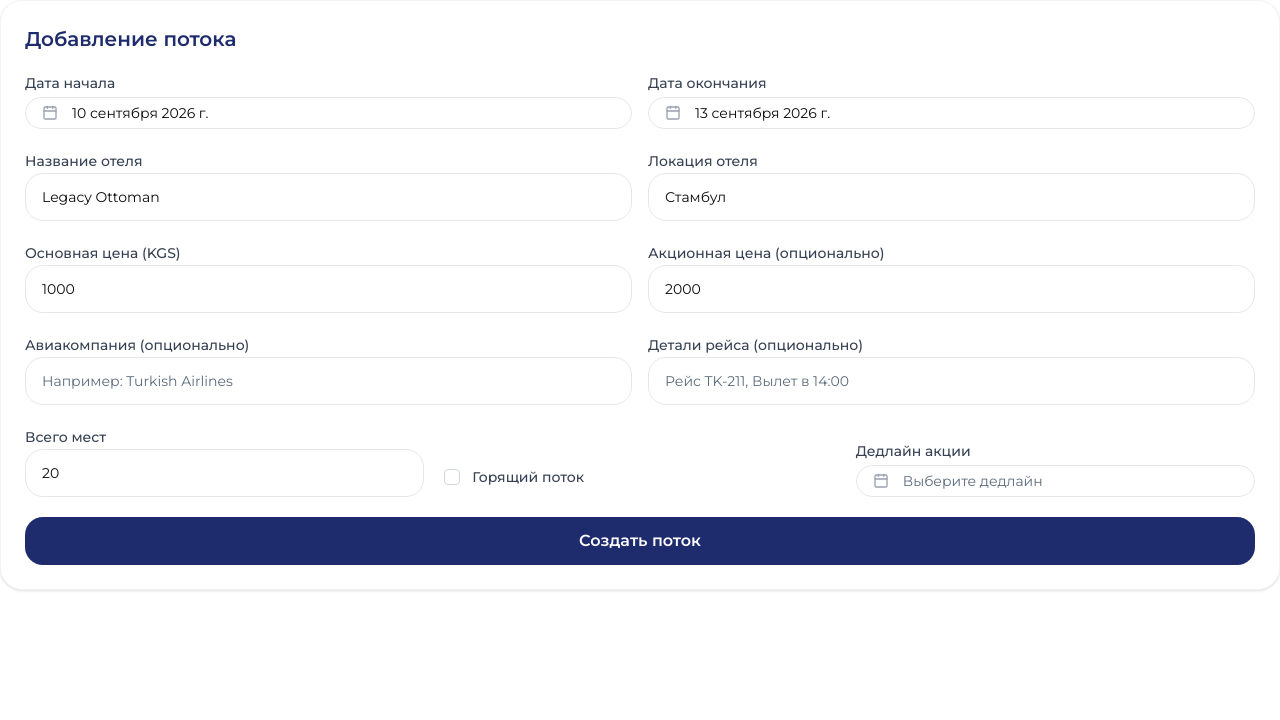
TourSetForm › требует скидочную цену меньше основной
Click the button "Создать поток" at point(640, 541), box [25,517,1255,565]
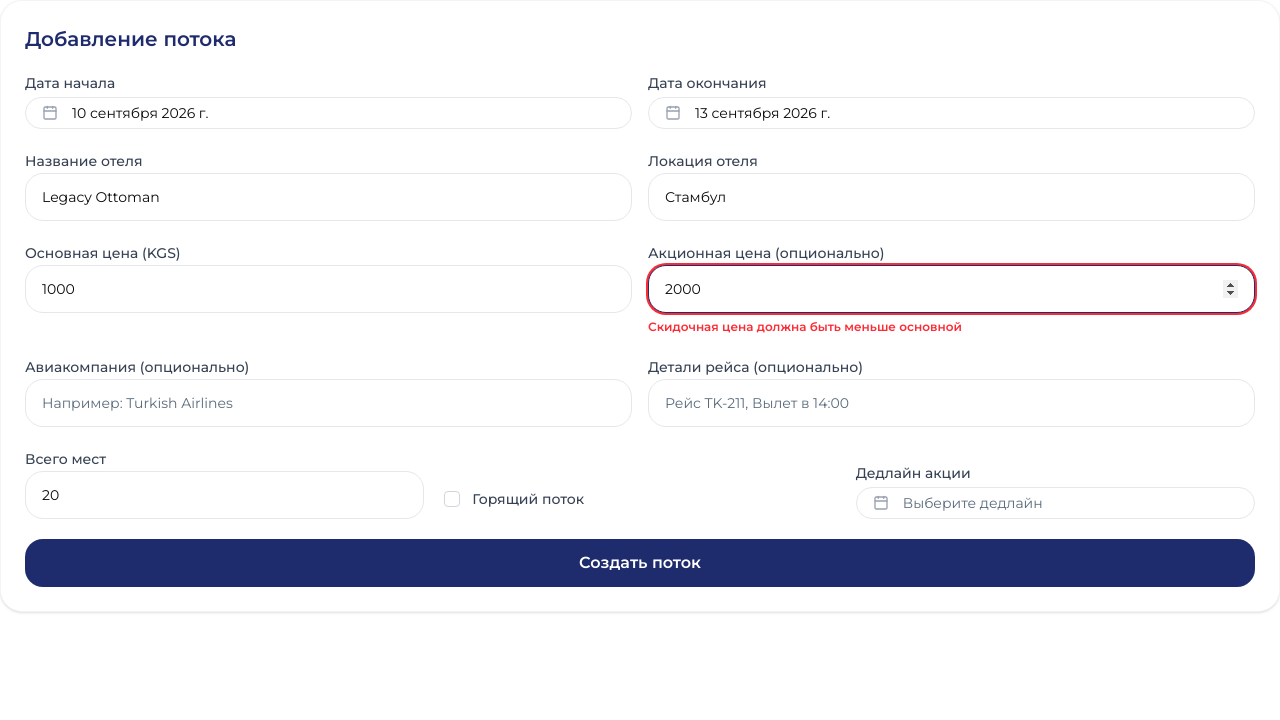
Expected: the text "Скидочная цена должна быть меньше основной" is shown, [648,319,962,334]
